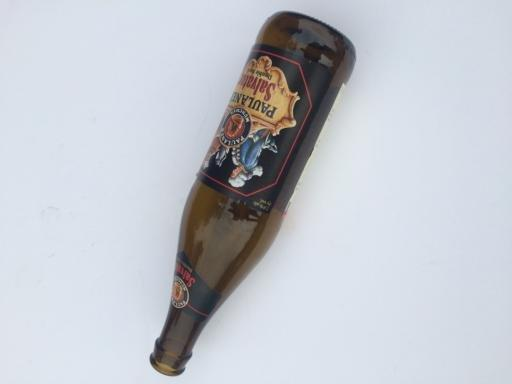botolkaca: (151, 11, 358, 376)
